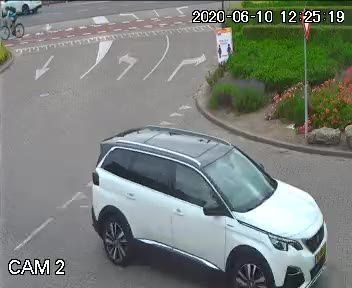car: (77, 109, 319, 288)
